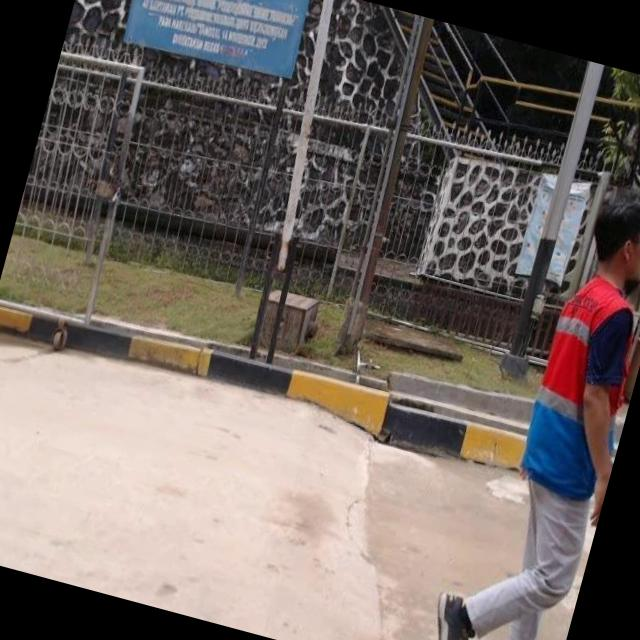safety_vest: (511, 267, 640, 503)
vehicle: (385, 164, 640, 640)
work_boots: (416, 584, 483, 640)
